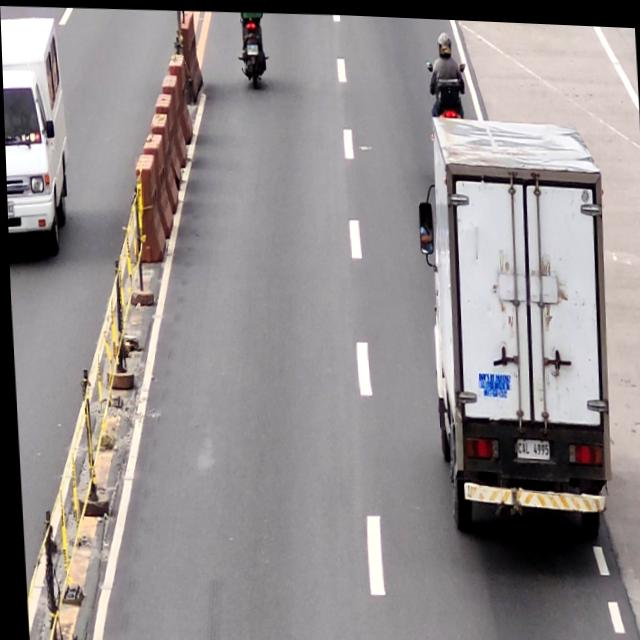License-Plate: (512, 431, 547, 455), (245, 41, 258, 52)
Motorcycle: (424, 52, 467, 114), (239, 9, 266, 89)
Truck: (411, 107, 617, 535)
